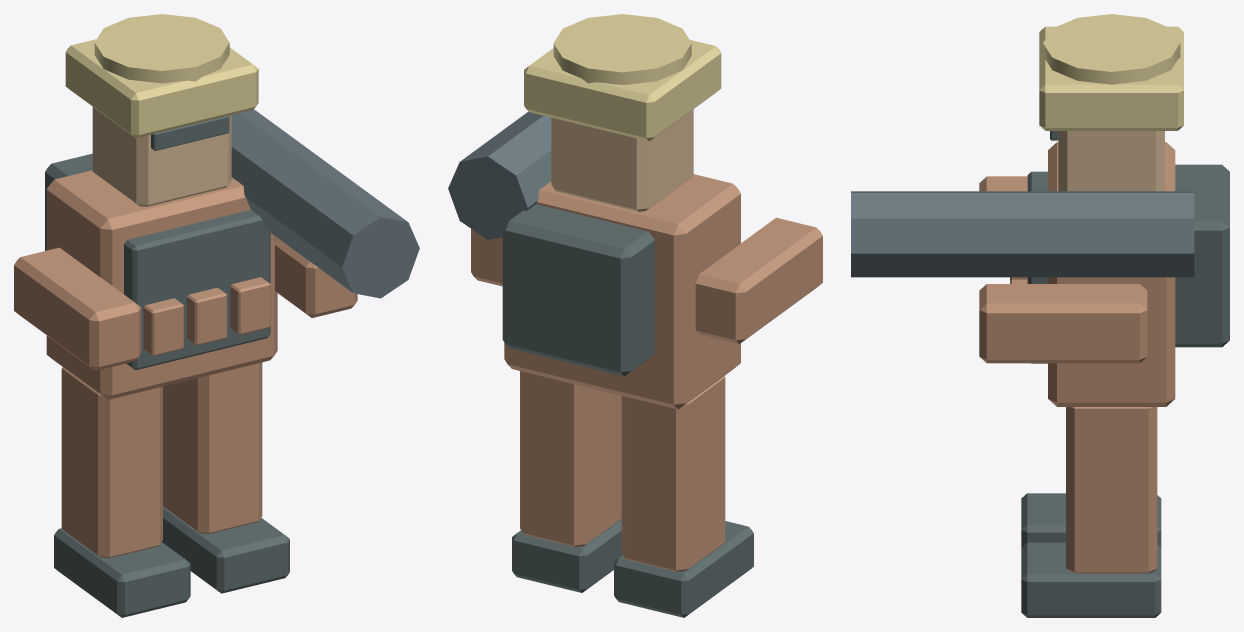
File: rocketeer.glb
3 views of the same model, side by side, from view 1: azimuth 30°, elevation 25°; view 2: azimuth 150°, elevation 25°; view 3: azimuth 270°, elevation 25° (orthographic). The views are drawn at different scales.
Visible parts, largest first — view 1: Cylinder, Cube.004, Cube, Cube.002, Detail ballistic vest, Cube.008, Cube.007, Cube.006, Detail helmet crown, Cube.001, Cube.003, Cube.009 (+5 smaller); view 2: Cube.005, Cube.004, Cube, Cube.002, Cube.008, Cube.007, Cube.006, Cylinder, Detail helmet crown, Cube.001, Cube.003, Cube.009; view 3: Cylinder, Cube.002, Cube.009, Cube.004, Cube.005, Cube.007, Cube.003, Detail helmet crown, Cube.006, Cube.001, Cube.008, Detail ballistic vest.
Part boxes in pixels (x1=…): Cylinder: x1=231, y1=109, x2=419, y2=298; Cube.004: x1=46, y1=170, x2=277, y2=399; Cube: x1=61, y1=367, x2=162, y2=558; Cube.002: x1=163, y1=362, x2=262, y2=533; Detail ballistic vest: x1=124, y1=210, x2=270, y2=370; Cube.008: x1=14, y1=247, x2=141, y2=370; Cube.007: x1=65, y1=39, x2=258, y2=138; Cube.006: x1=92, y1=107, x2=231, y2=206; Detail helmet crown: x1=94, y1=14, x2=229, y2=83; Cube.001: x1=54, y1=528, x2=190, y2=617; Cube.003: x1=162, y1=506, x2=289, y2=593; Cube.009: x1=275, y1=237, x2=357, y2=317; Cube.005: x1=502, y1=204, x2=654, y2=376; Cube.004: x1=504, y1=174, x2=740, y2=409; Cube: x1=621, y1=376, x2=725, y2=571; Cube.002: x1=520, y1=371, x2=621, y2=546; Cube.008: x1=695, y1=217, x2=822, y2=344; Cube.007: x1=524, y1=40, x2=721, y2=141; Cube.006: x1=551, y1=109, x2=693, y2=211; Cylinder: x1=448, y1=111, x2=551, y2=239; Detail helmet crown: x1=553, y1=14, x2=691, y2=84; Cube.001: x1=614, y1=521, x2=753, y2=617; Cube.003: x1=512, y1=519, x2=622, y2=592; Cube.009: x1=471, y1=229, x2=502, y2=286; Cylinder: x1=851, y1=191, x2=1194, y2=277; Cube.002: x1=1066, y1=407, x2=1157, y2=573; Cube.009: x1=979, y1=284, x2=1147, y2=363; Cube.004: x1=1048, y1=142, x2=1175, y2=406; Cube.005: x1=1175, y1=164, x2=1229, y2=347; Cube.007: x1=1039, y1=26, x2=1183, y2=130; Cube.003: x1=1021, y1=542, x2=1161, y2=617; Detail helmet crown: x1=1043, y1=14, x2=1180, y2=84; Cube.006: x1=1058, y1=131, x2=1164, y2=191; Cube.001: x1=1021, y1=493, x2=1161, y2=547; Cube.008: x1=979, y1=176, x2=1027, y2=191; Detail ballistic vest: x1=1027, y1=171, x2=1047, y2=363.
Bounding box in the file's own units: 1.24 × 2.32 × 1.49.
